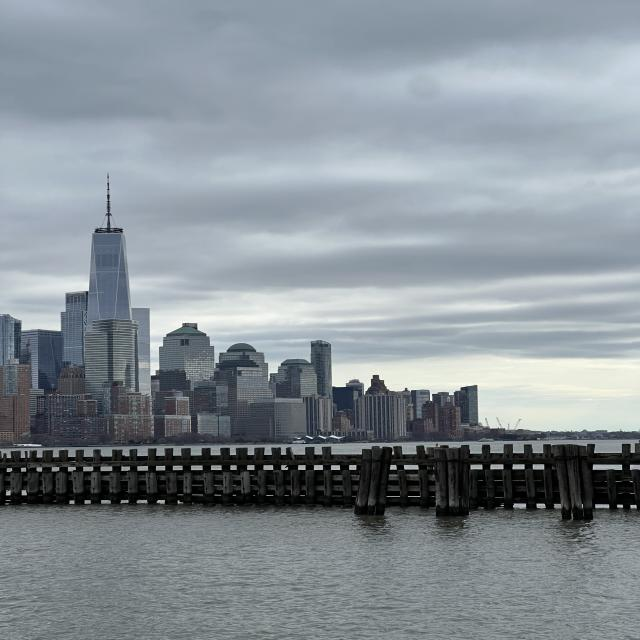WTC: (87, 172, 132, 318)
